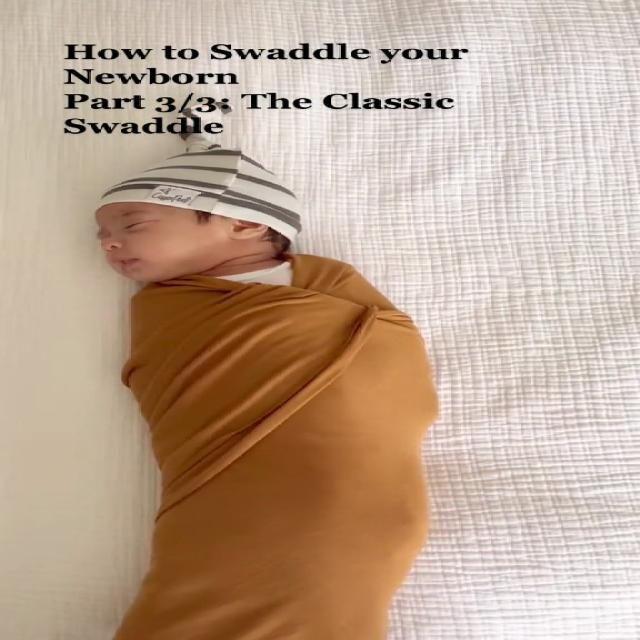baby: (81, 140, 466, 640)
